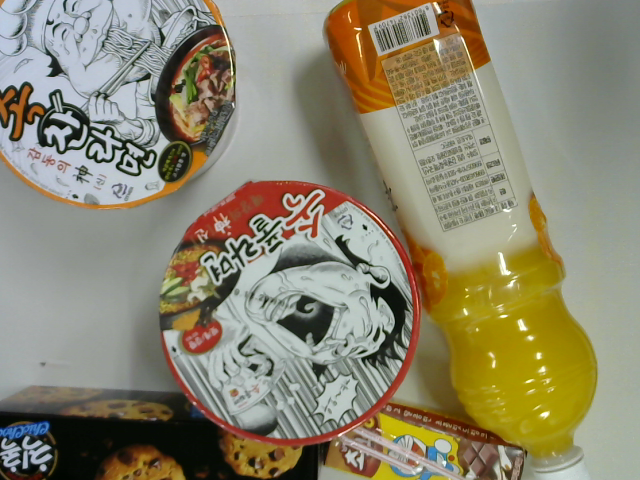Chicchok_Original_2400: (1, 385, 317, 479)
Choco_E_Mong: (321, 398, 528, 480)
Hejangchan: (1, 1, 239, 212)
Hejangpul: (157, 179, 424, 446)
Jeju_Tangerine_1.5L: (320, 1, 603, 480)
